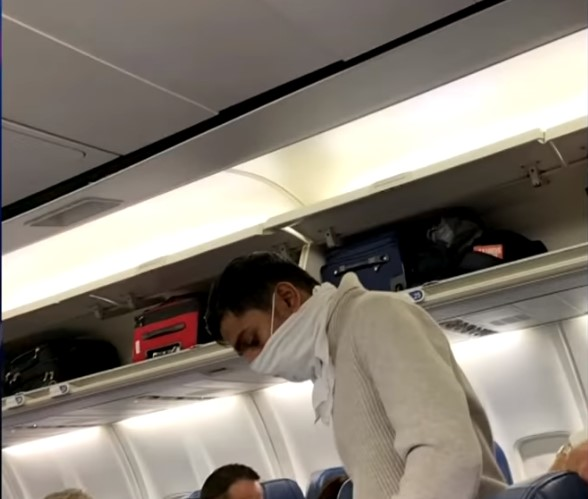face_with_mask: (206, 262, 339, 386)
